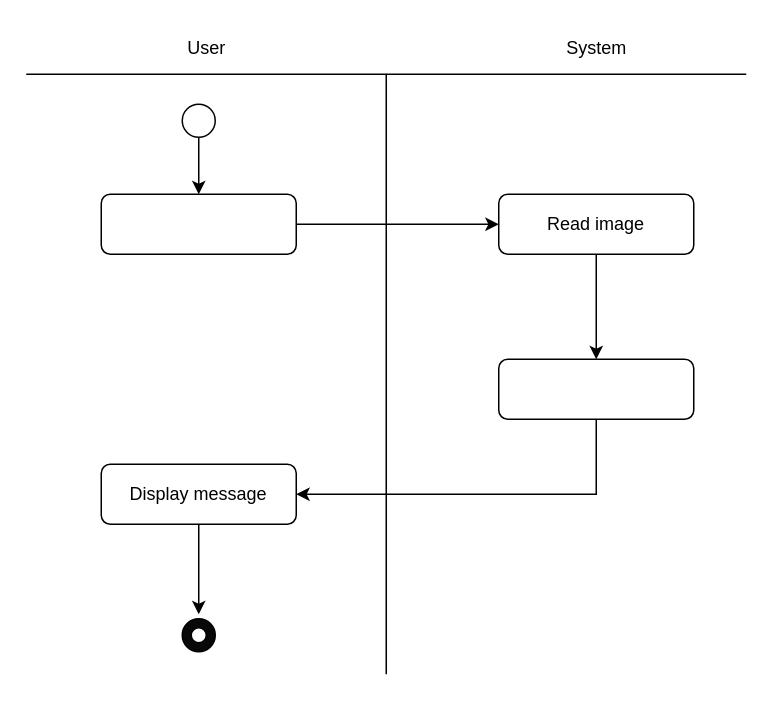
This 774x702 diagram has some shape labels left out. Here are the shapes that lost their labels. From the top down, the box of each, then its label:
(100, 193, 296, 254): Input stego image and key
(497, 358, 694, 419): Extract message
